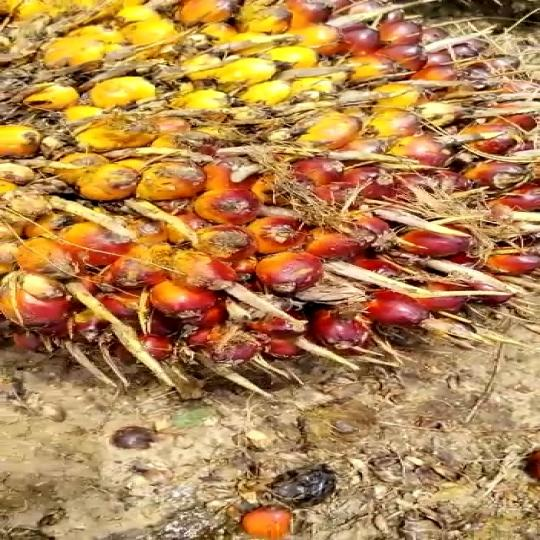masak: (0, 0, 540, 393)
